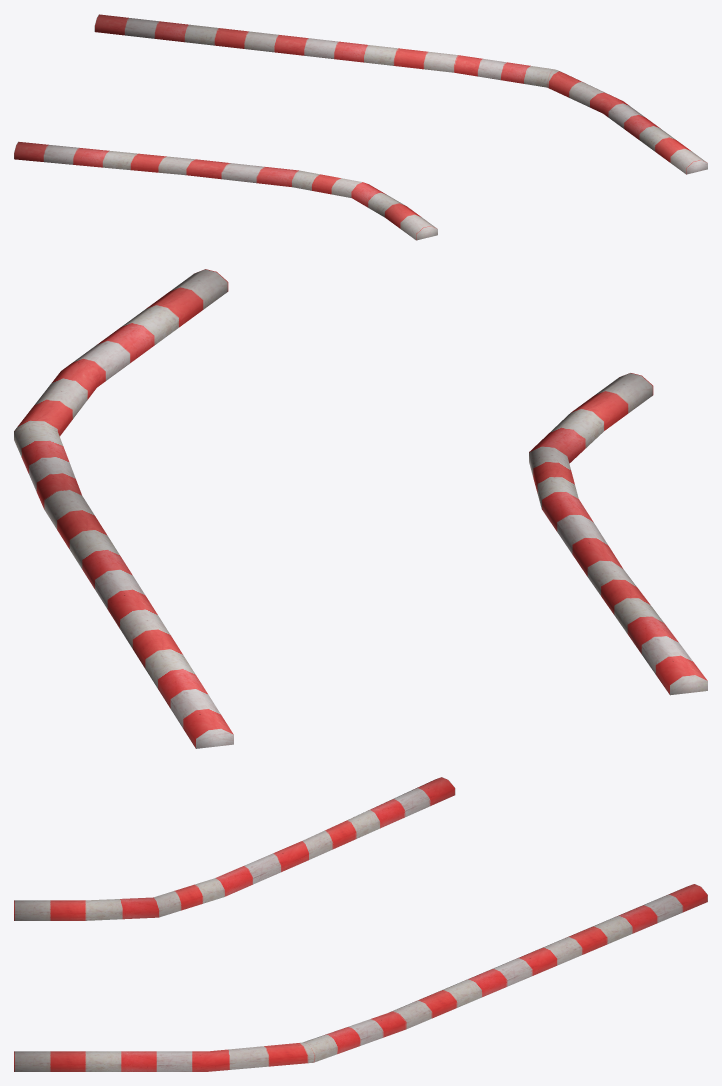
Rendered from crub_track_gentle_turn_left.fbx.
3 views of the same model, one above another, from view 1: azimuth 30°, elevation 25°; view 2: azimuth 150°, elevation 25°; view 3: azimuth 270°, elevation 25° (orthographic). The views are drawn at different scales.
Parts seen in each view (by area): view 1: curb_track_gentle_turn_left; view 2: curb_track_gentle_turn_left; view 3: curb_track_gentle_turn_left.
Boxes of the visible parts, left/top/right/bottom form: curb_track_gentle_turn_left: left=14, top=14, right=707, bottom=240; curb_track_gentle_turn_left: left=14, top=269, right=707, bottom=748; curb_track_gentle_turn_left: left=14, top=777, right=707, bottom=1071.
Bounding box in the file's own units: 316 × 6.43 × 325.
